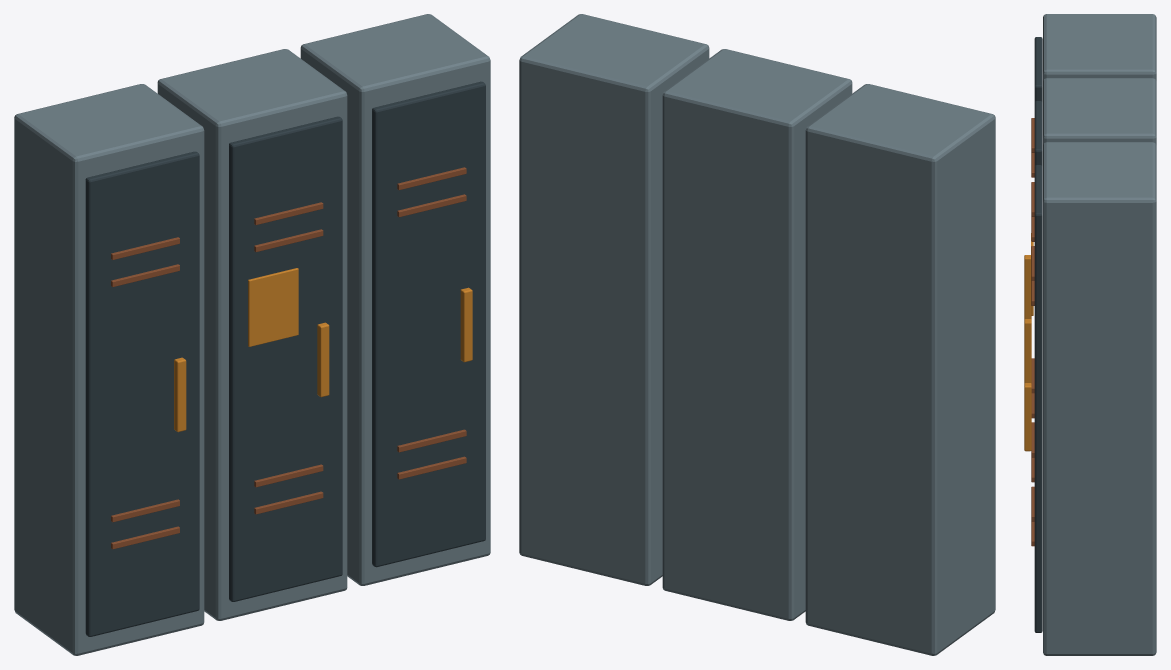
Rendered from locker_bank.glb.
3 views of the same model, side by side, from view 1: azimuth 30°, elevation 25°; view 2: azimuth 150°, elevation 25°; view 3: azimuth 270°, elevation 25° (orthographic). The views are drawn at different scales.
Visible parts, largest first — view 1: Locker shell, Locker door, Locker door.002, Locker door.001, Locker shell.001, Locker shell.002, Missing-person tag, Locker handle.001, Locker handle, Locker handle.002; view 2: Locker shell, Locker shell.002, Locker shell.001; view 3: Locker shell.002, Locker shell.001, Locker shell, Locker door.002, Locker door, Locker door.001, Locker handle.002, Locker handle.001, Locker handle.
Boxes of the visible parts, x1,y1,x2,y2 form: Locker shell: (14,84,204,655); Locker door: (85,151,199,636); Locker door.002: (372,81,485,567); Locker door.001: (229,116,342,601); Locker shell.001: (157,49,347,620); Locker shell.002: (300,14,490,585); Missing-person tag: (248,268,298,346); Locker handle.001: (317,322,329,397); Locker handle: (174,357,186,432); Locker handle.002: (460,287,472,362); Locker shell: (805,84,995,655); Locker shell.002: (519,14,709,585); Locker shell.001: (662,49,852,620); Locker shell.002: (1043,142,1156,655); Locker shell.001: (1043,78,1156,145); Locker shell: (1043,14,1156,80); Locker door.002: (1034,165,1042,632); Locker door: (1034,37,1042,102); Locker door.001: (1034,101,1042,166); Locker handle.002: (1024,383,1031,451); Locker handle.001: (1024,319,1031,383); Locker handle: (1024,255,1031,319).
Size of the model in its own units: 2.1 by 2.4 by 0.6275.
